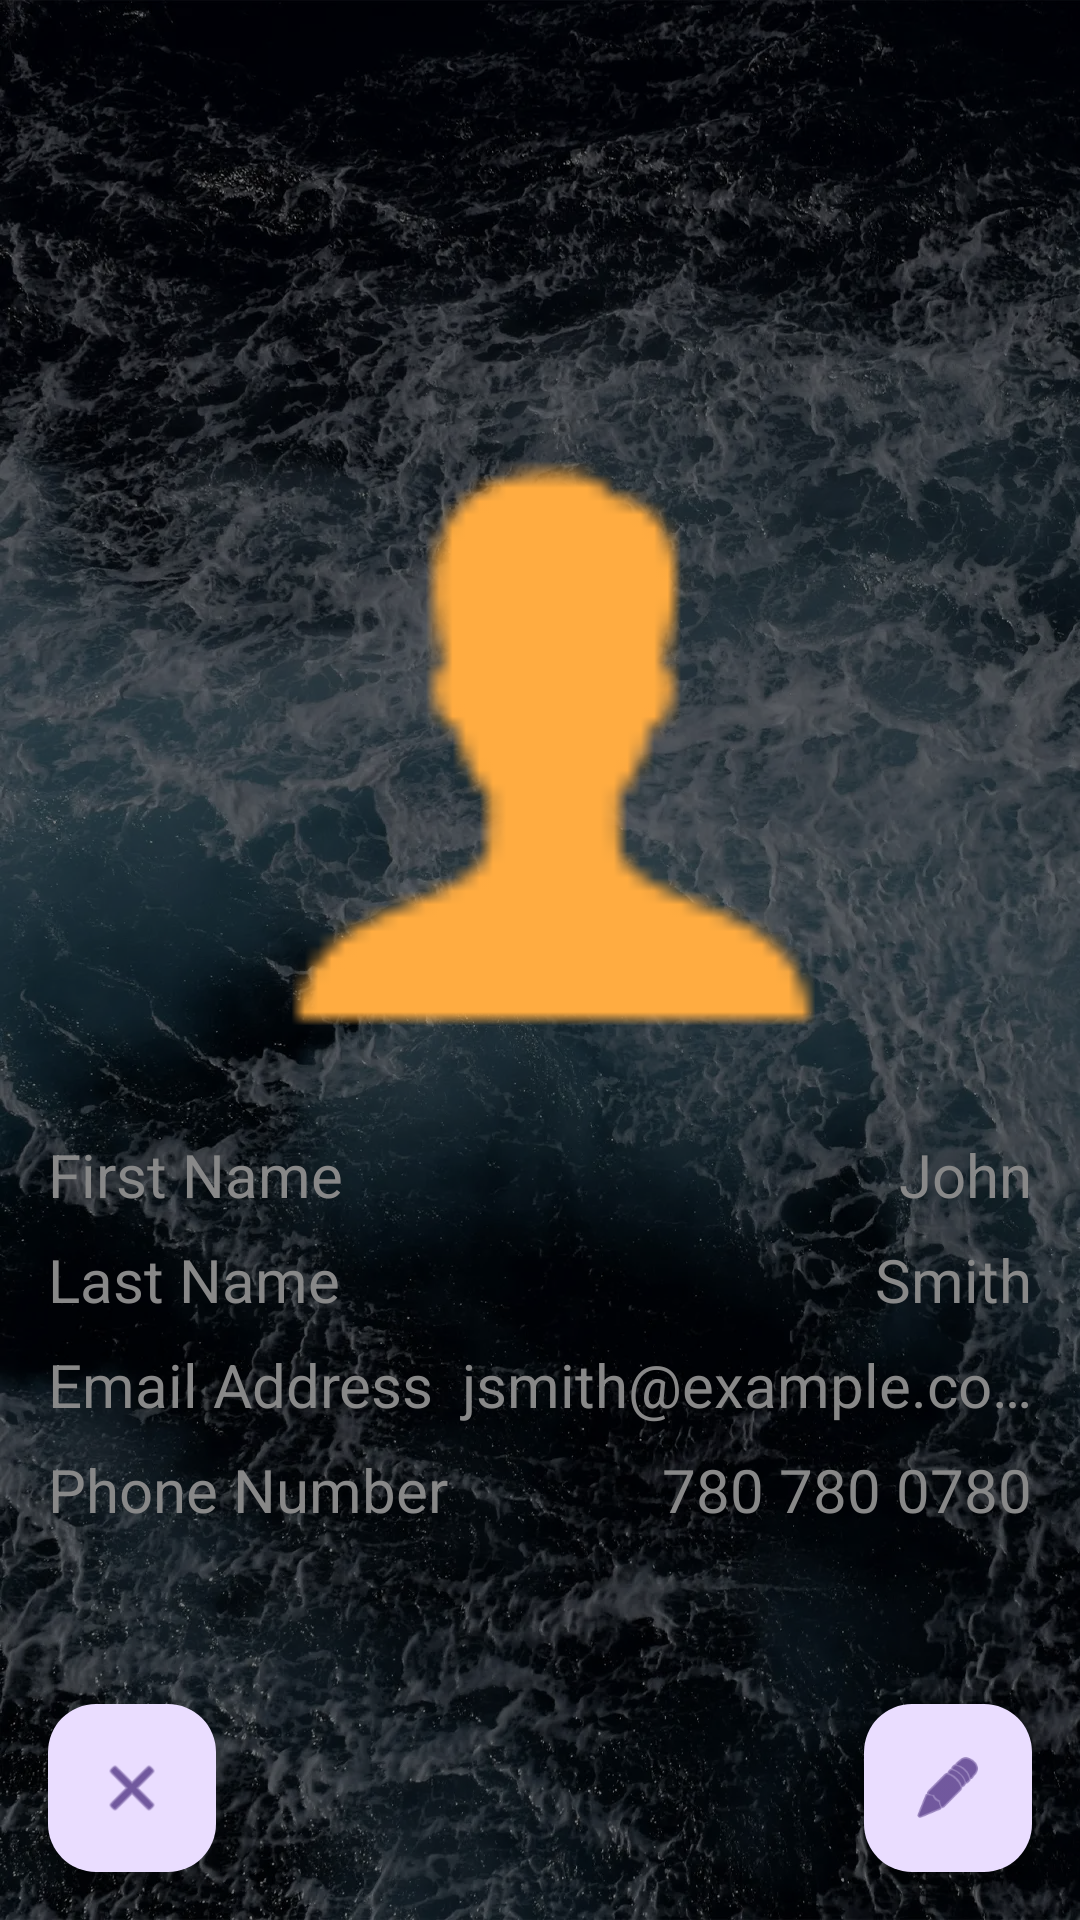

Named icons in this screenshot (1080 x 1920) and their bounding boxes, [x1=x1, y1=y1, x2=x2, y2=y2]:
close clear cancel: [x1=48, y1=1704, x2=216, y2=1872]
edit: [x1=864, y1=1704, x2=1032, y2=1872]
